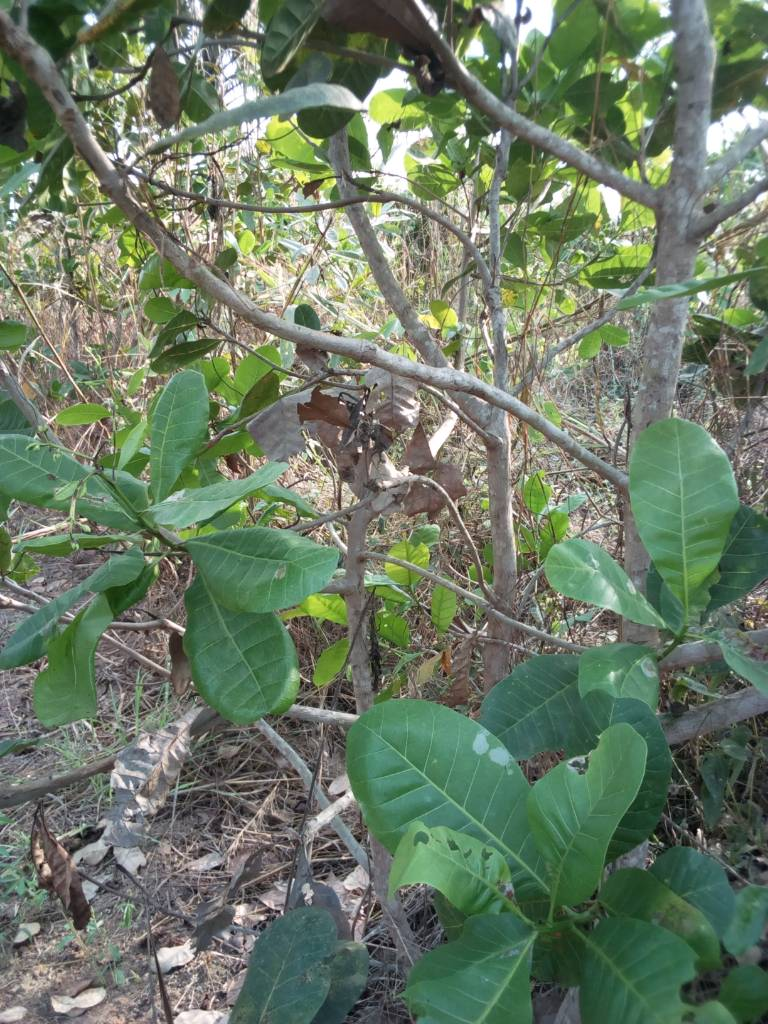Helopeltis anacardii: (349, 700, 555, 900), (579, 913, 729, 1024), (190, 594, 300, 721), (186, 527, 336, 614), (390, 824, 529, 911), (32, 596, 108, 733)
